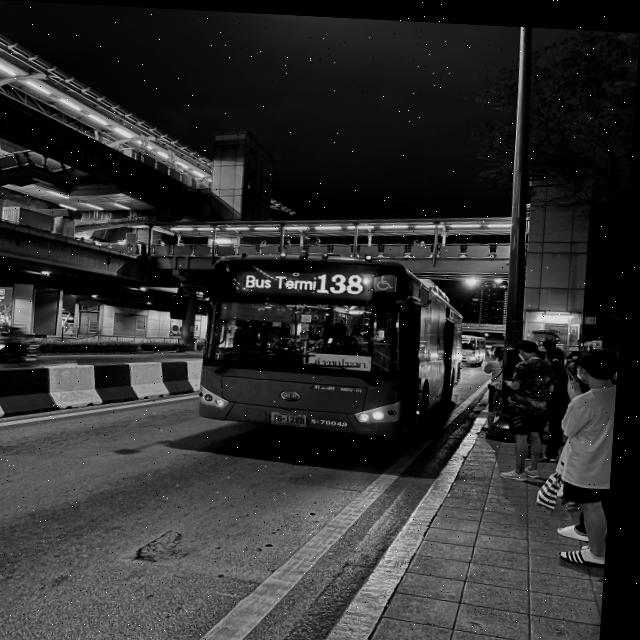BMTA-bus: (201, 247, 470, 439)
Bus-Line-Number: (320, 267, 373, 294)
Destination-Sign-Normal-Expressway: (313, 347, 377, 367)
